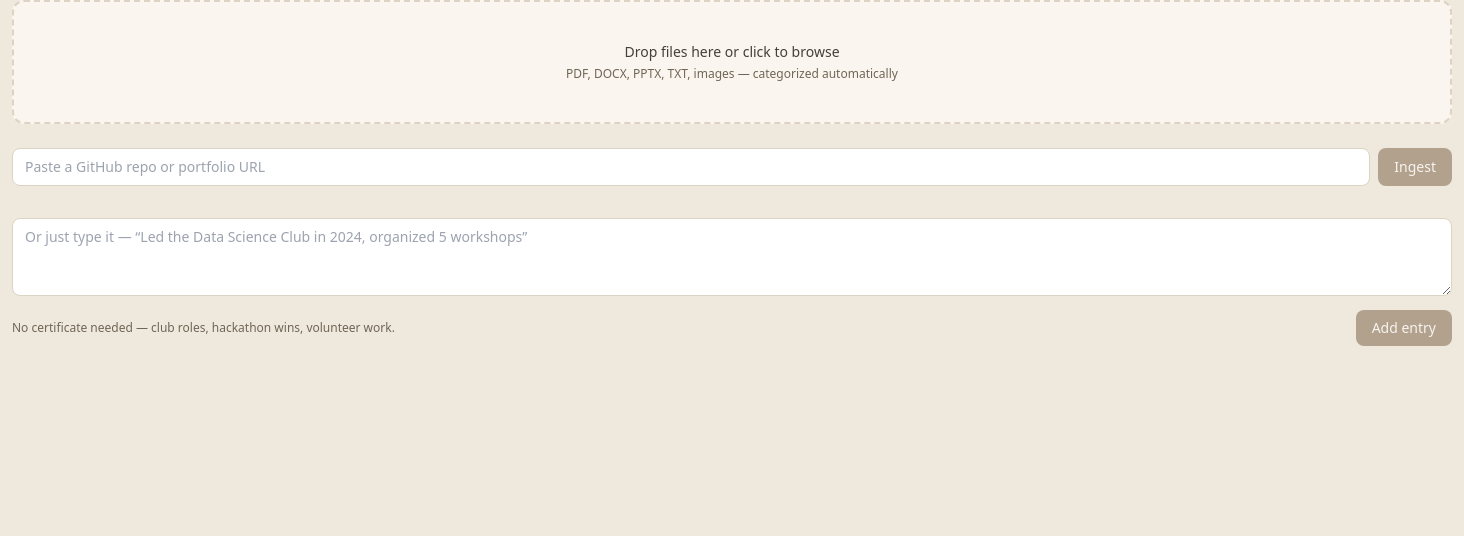
Upload routing › sends the written entry through ingestText
This screenshot has width=1464, height=536.
In the text box with placeholder "Or just type it": (732,257) x1=12 y1=218 x2=1452 y2=296, type "Led the Data Science Club in 2024"
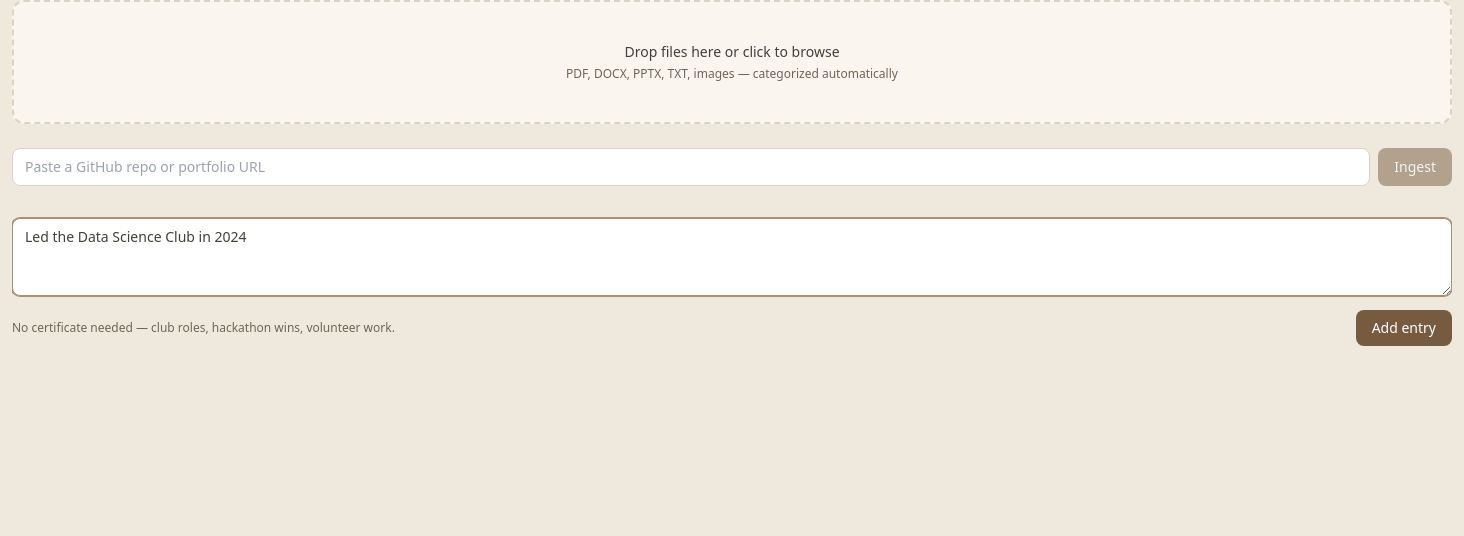
Click the button "Add entry": (1404,328) x1=1356 y1=310 x2=1452 y2=346
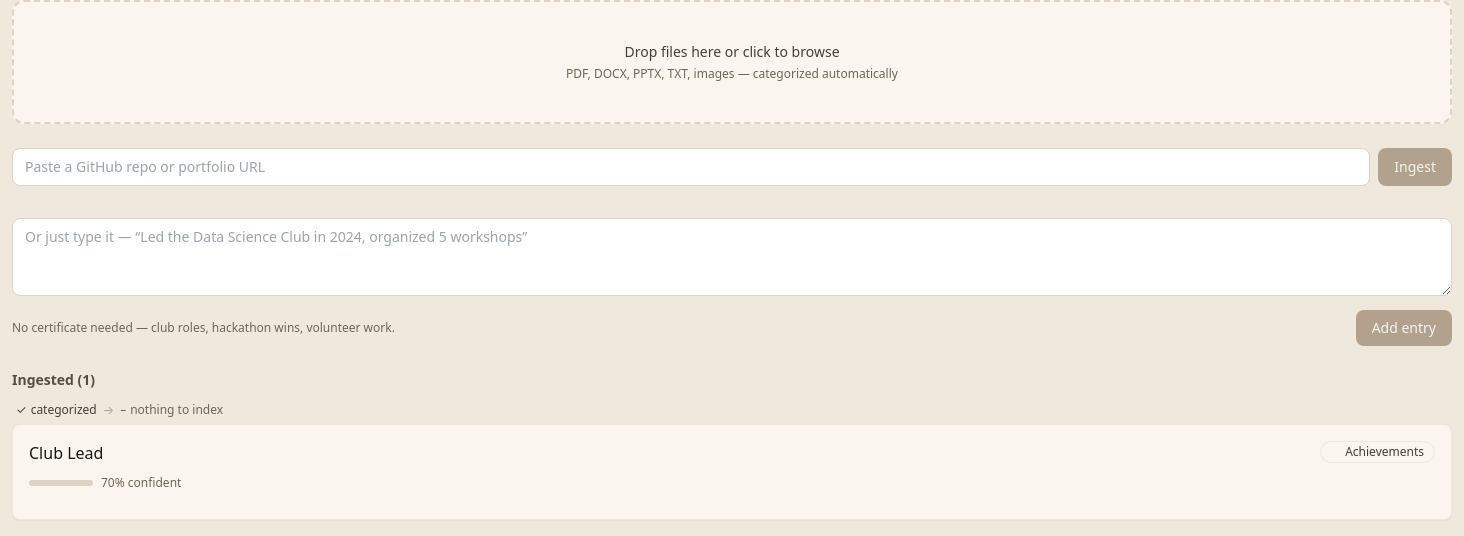
Now the text "Club Lead" is shown, box x1=29 y1=441 x2=103 y2=465
